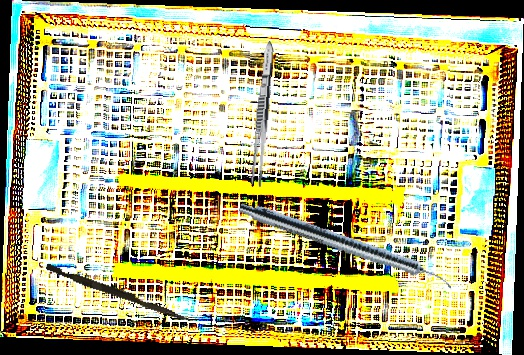Dressing Forceps: (249, 40, 277, 189)
Handpiece: (235, 198, 457, 294)
Pusher: (44, 263, 193, 323)
